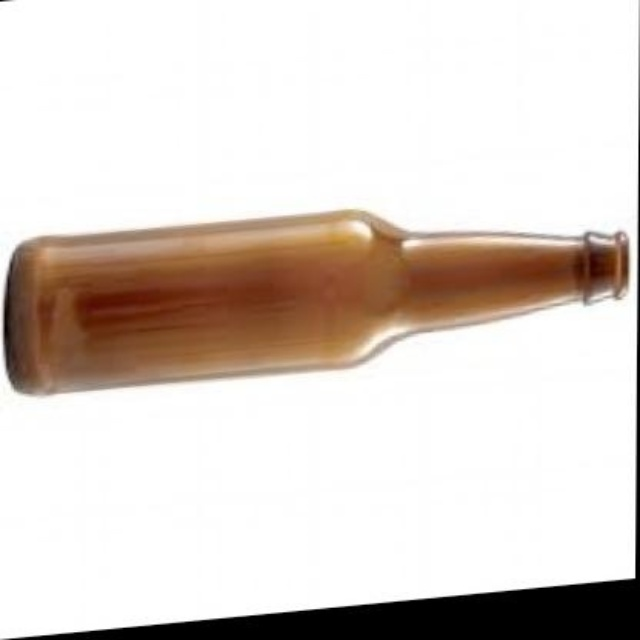trash: (3, 211, 628, 392)
